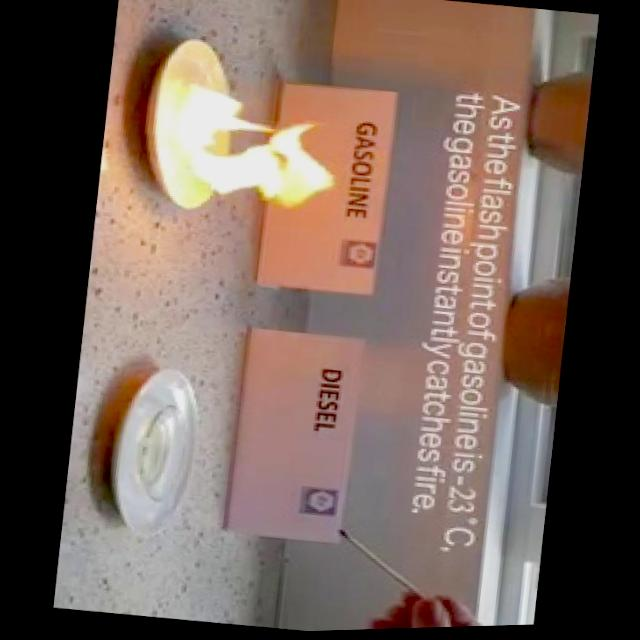Fire: (155, 82, 345, 227)
